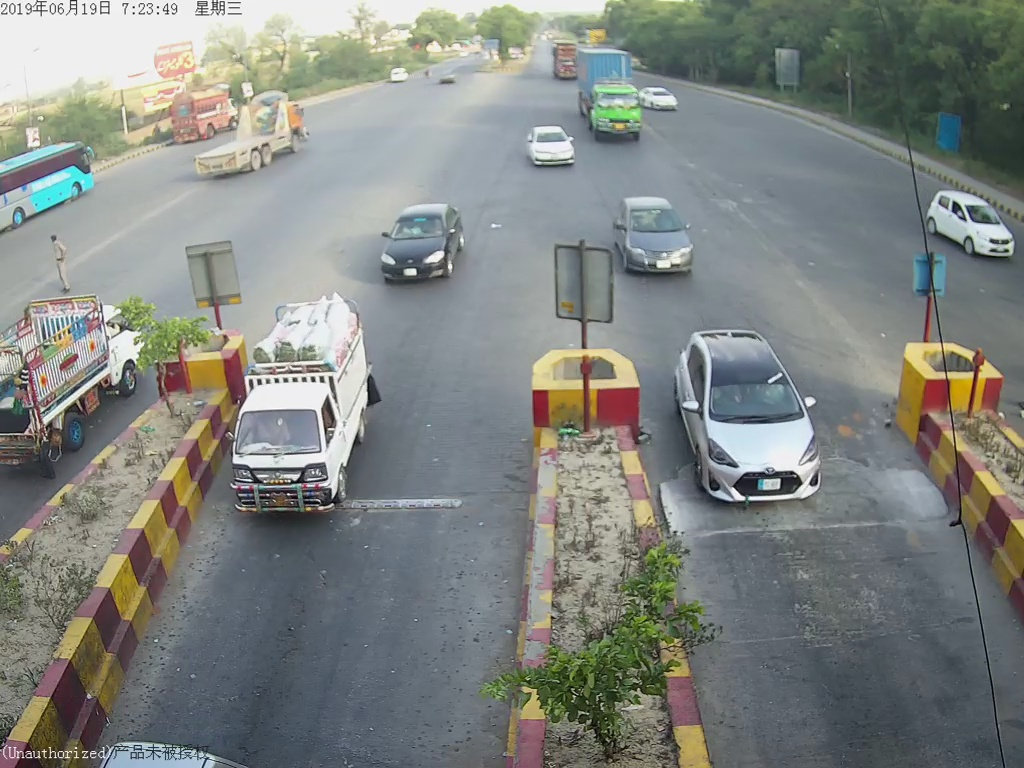Cat-1: (227, 303, 393, 534), (671, 322, 834, 519), (609, 190, 705, 288), (376, 195, 460, 291), (517, 121, 579, 172)
